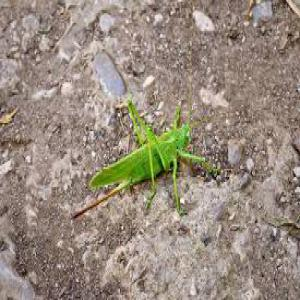locust: (90, 93, 205, 211)
